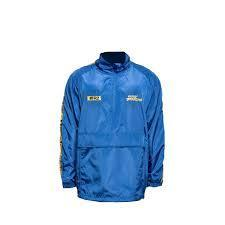sweater: (62, 52, 165, 200)
